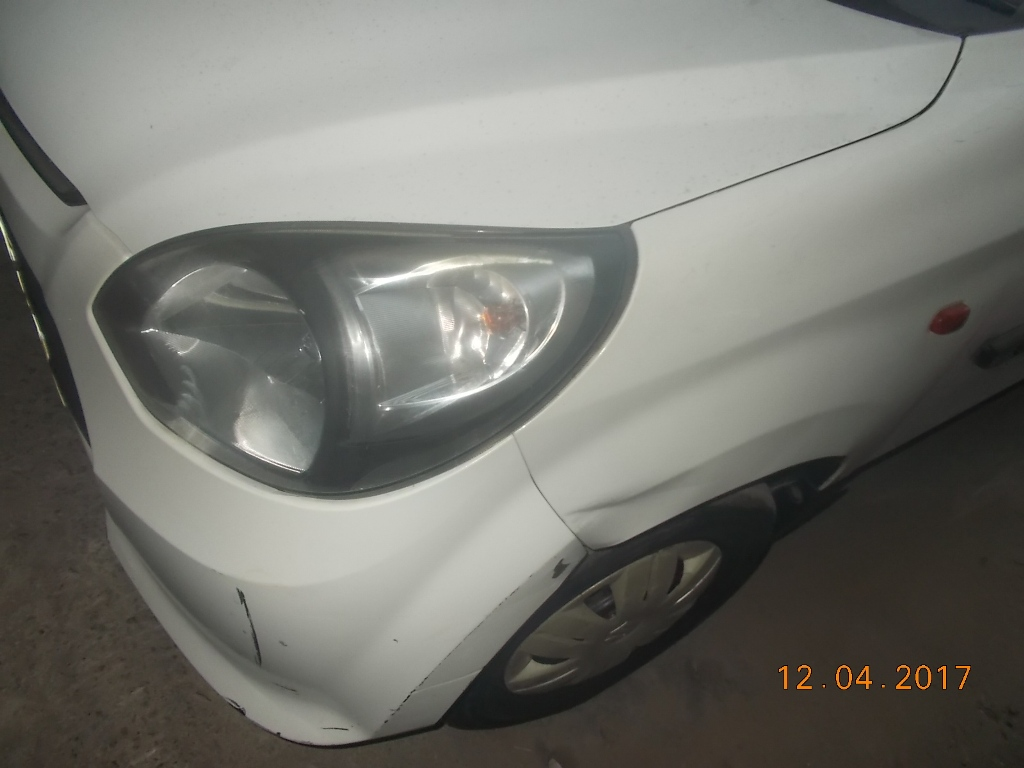Scratch_or_spot: (221, 578, 266, 660), (537, 562, 573, 574)
